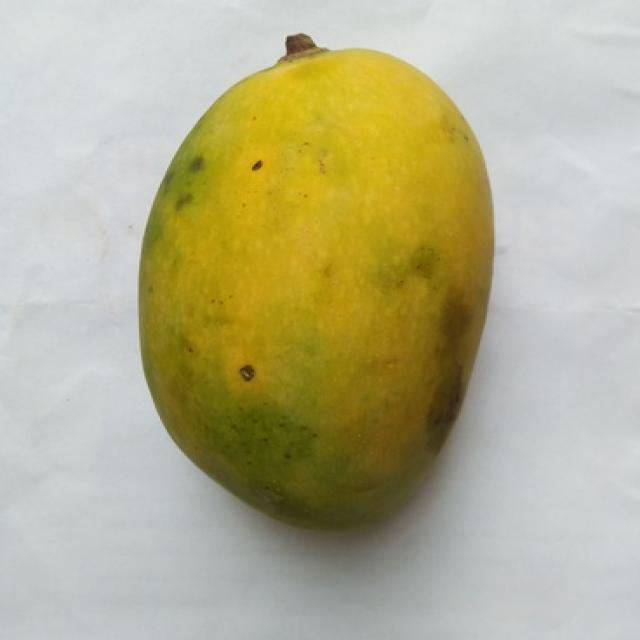Mango: (141, 36, 492, 526)
